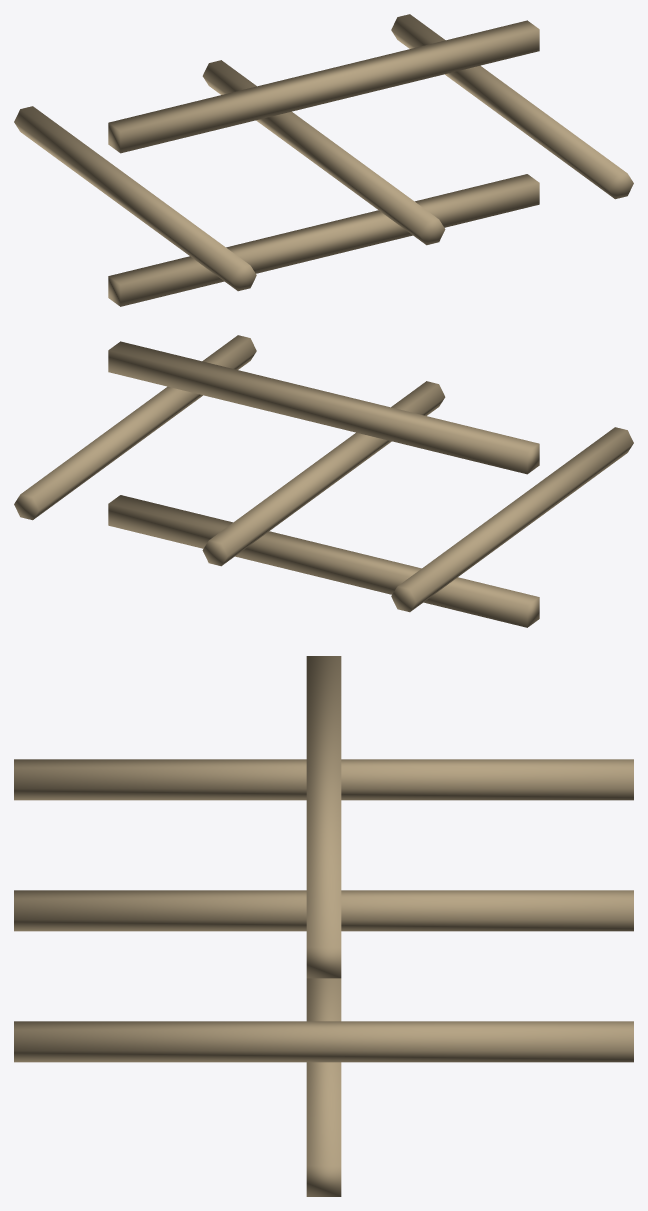
File: prop_fence.glb
The picture shows the model from 3 angles, top to bottom: view 1: azimuth 30°, elevation 25°; view 2: azimuth 150°, elevation 25°; view 3: azimuth 270°, elevation 25°; orthographic projection. The views are drawn at different scales.
Parts seen in each view (by area): view 1: rail_60, rail_25, post0, post1, post2; view 2: rail_60, rail_25, post0, post1, post2; view 3: post2, post0, post1, rail_60, rail_25.
Part boxes in pixels (box(x1,y1,x2,y2)): rail_60: box(108, 20, 539, 153); rail_25: box(108, 174, 539, 306); post0: box(14, 106, 256, 291); post1: box(202, 60, 445, 245); post2: box(391, 14, 633, 199); rail_60: box(108, 341, 539, 474); rail_25: box(108, 495, 539, 627); post0: box(391, 427, 633, 612); post1: box(202, 381, 445, 566); post2: box(14, 335, 256, 520); post2: box(14, 1021, 633, 1062); post0: box(14, 759, 633, 800); post1: box(14, 890, 633, 931); rail_60: box(306, 656, 341, 978); rail_25: box(306, 978, 341, 1196).
Size of the model in its own units: 1 by 0.4 by 0.9.
